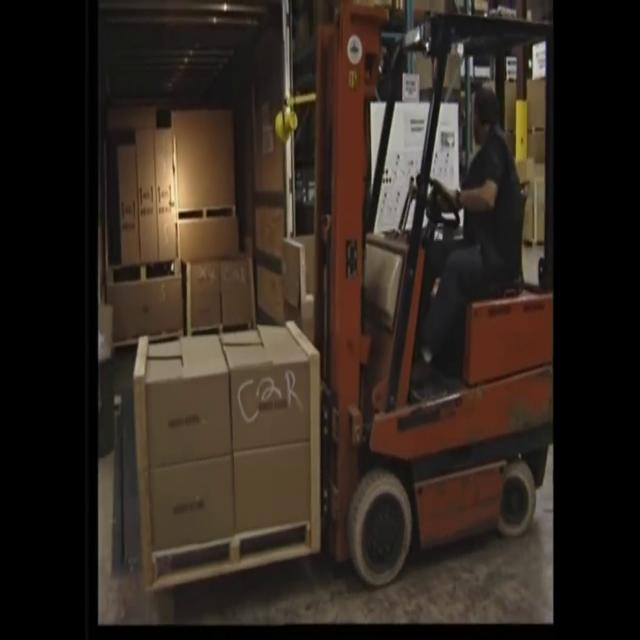Chariot elevateur: (296, 7, 552, 596)
